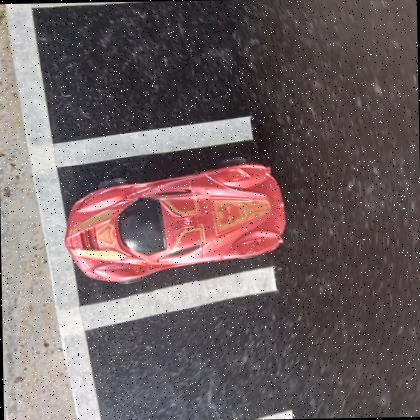Car: (64, 164, 286, 285)
